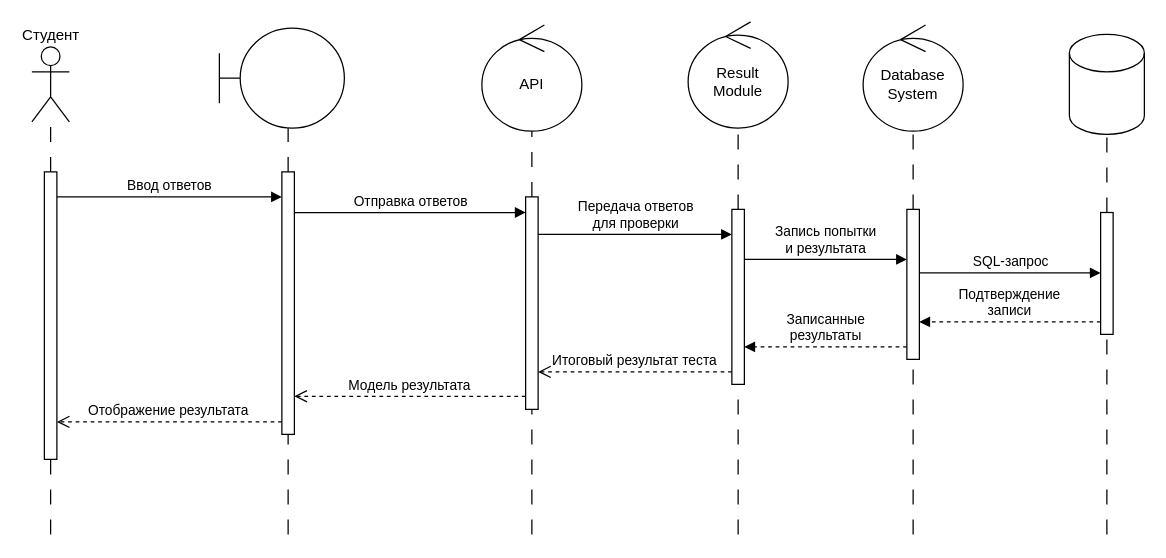
Some shapes in this 1166 by 558 pixel diagram are drawn without their labels. Each missing label, with the centre of its shape:
DB: point (1106, 83)
GUI: point (281, 77)
